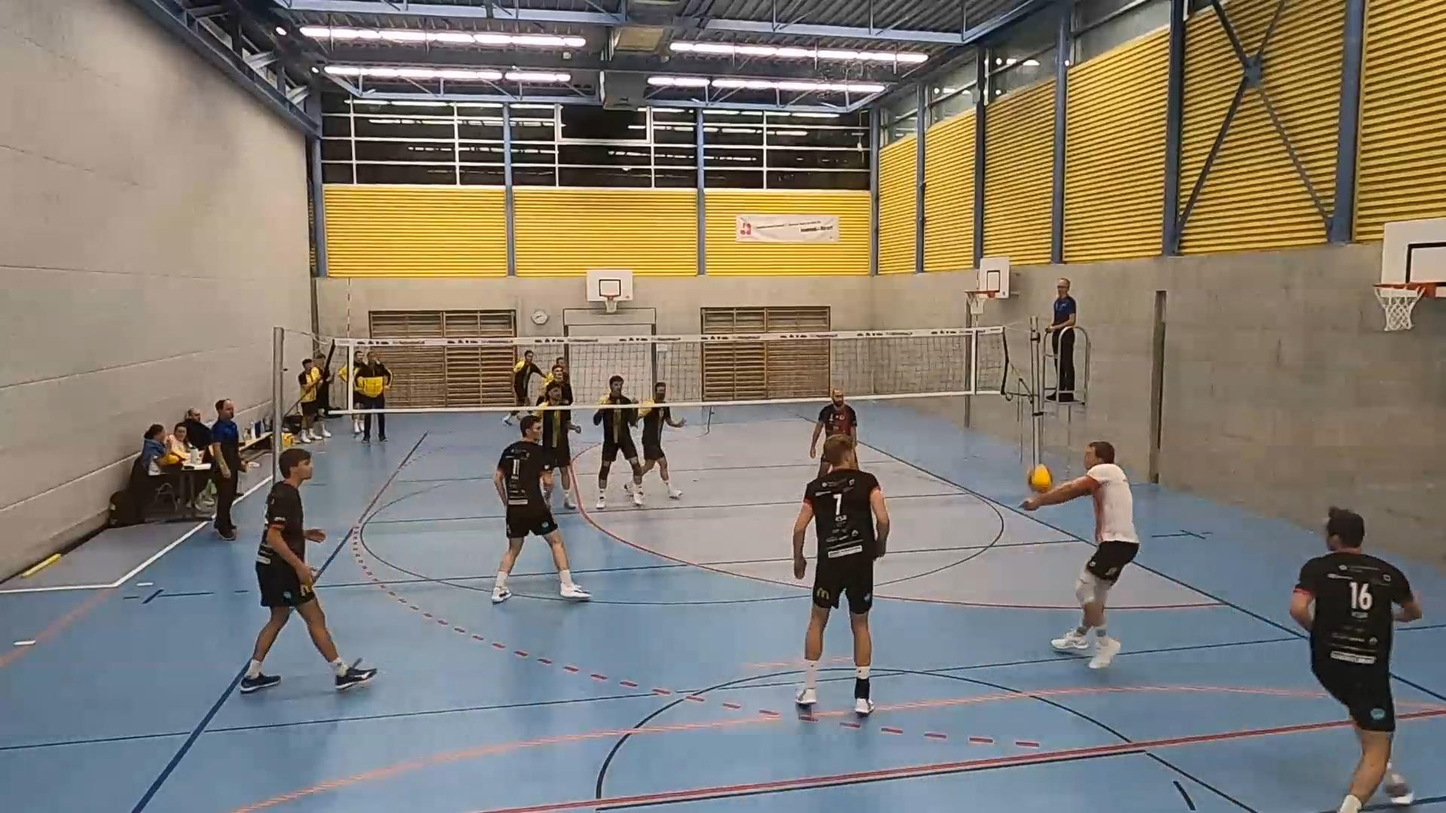Player: (1290, 507, 1421, 812), (239, 448, 376, 693), (793, 435, 889, 714), (492, 415, 590, 602), (593, 375, 642, 509), (536, 381, 580, 509), (639, 381, 685, 499), (810, 388, 857, 458), (512, 351, 543, 406), (543, 357, 573, 404)
Receive: (1015, 435, 1141, 668)
ball: (1030, 462, 1051, 489)
